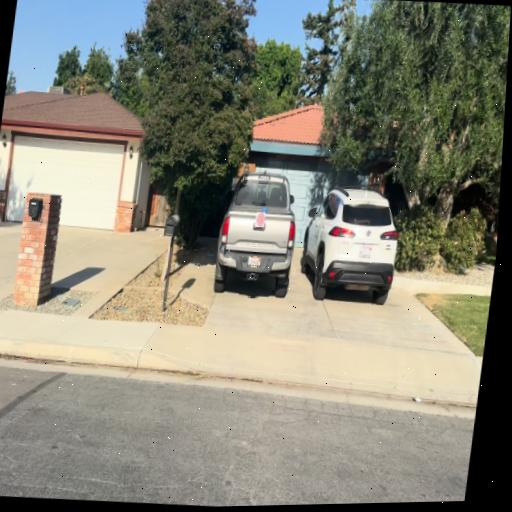bullseye: (256, 212, 266, 227)
